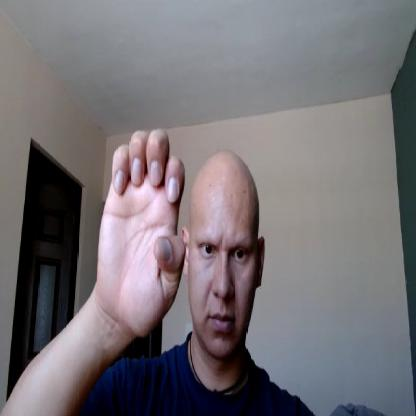E: (99, 125, 187, 340)
